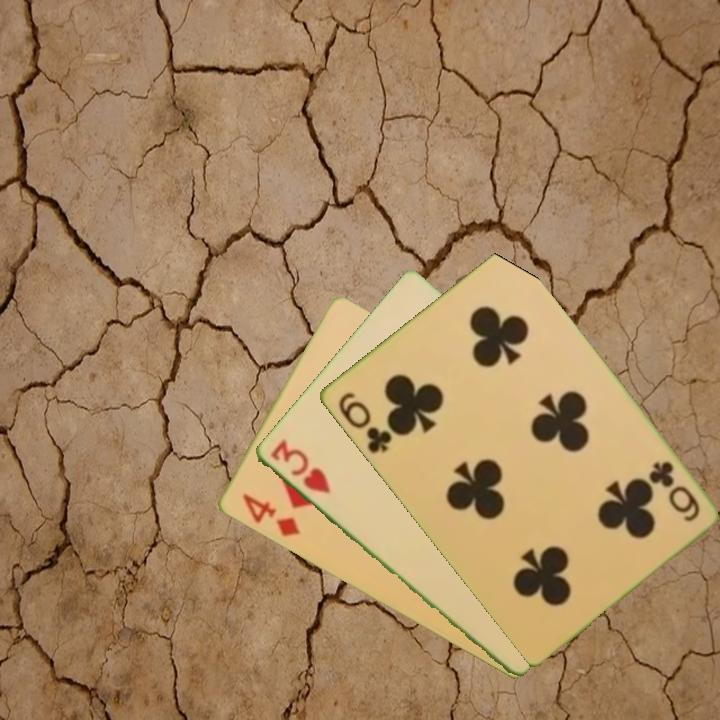3h: (266, 435, 333, 497)
4d: (238, 490, 303, 540)
6c: (333, 388, 395, 457), (645, 457, 702, 525)
